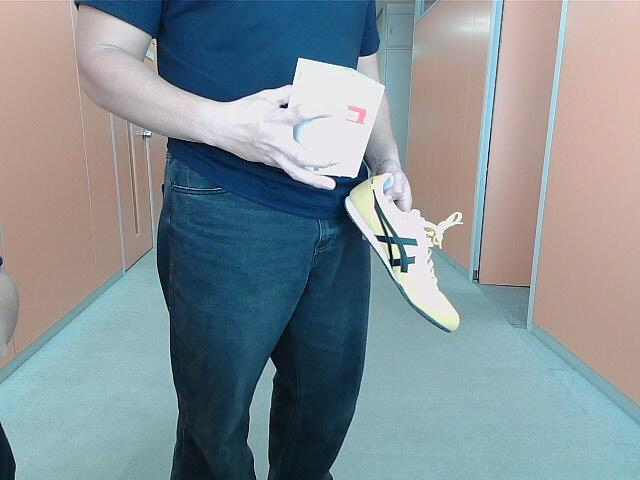Blind_box: (283, 52, 381, 177)
Shoes: (349, 171, 465, 330)
